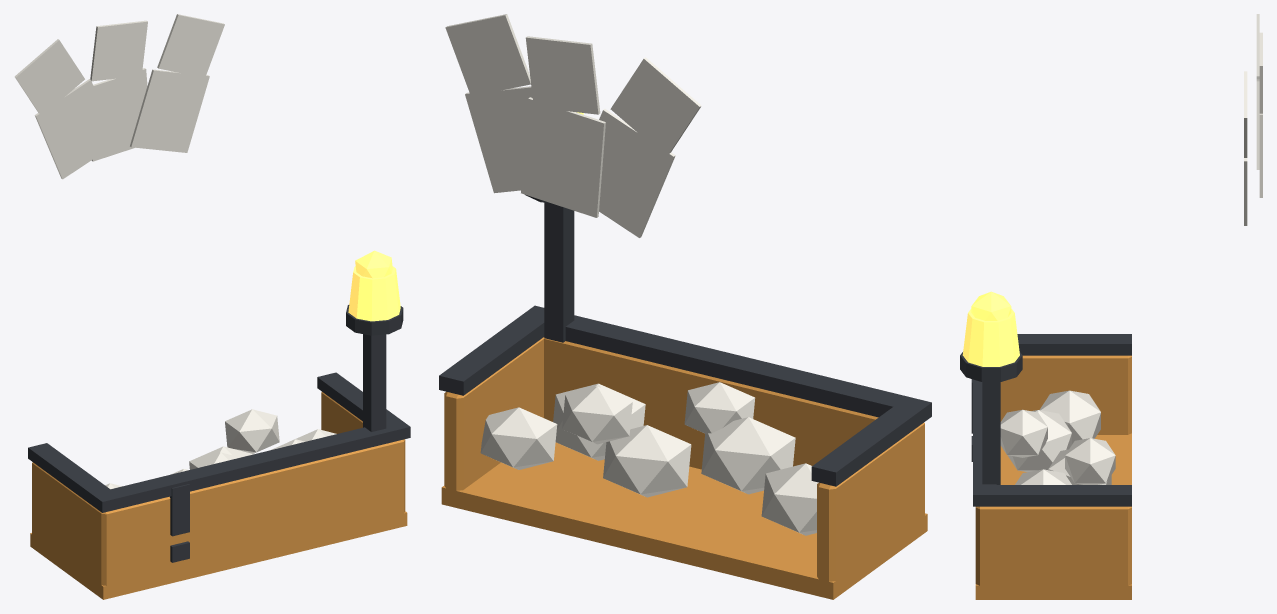
The model's file is shredder_m1_2.glb.
3 renders of one model, left to right at view 1: azimuth 30°, elevation 25°; view 2: azimuth 150°, elevation 25°; view 3: azimuth 270°, elevation 25°, orthographic. The views are drawn at different scales.
Parts seen in each view (by area): view 1: shredder_m1_2_mesh; view 2: shredder_m1_2_mesh; view 3: shredder_m1_2_mesh.
Part boxes in pixels (x1,y1,x2,y2): shredder_m1_2_mesh: (14,14,410,599); shredder_m1_2_mesh: (439,14,931,599); shredder_m1_2_mesh: (960,14,1262,599).
Size of the model in its own units: 0.73 by 1.01 by 0.581.
